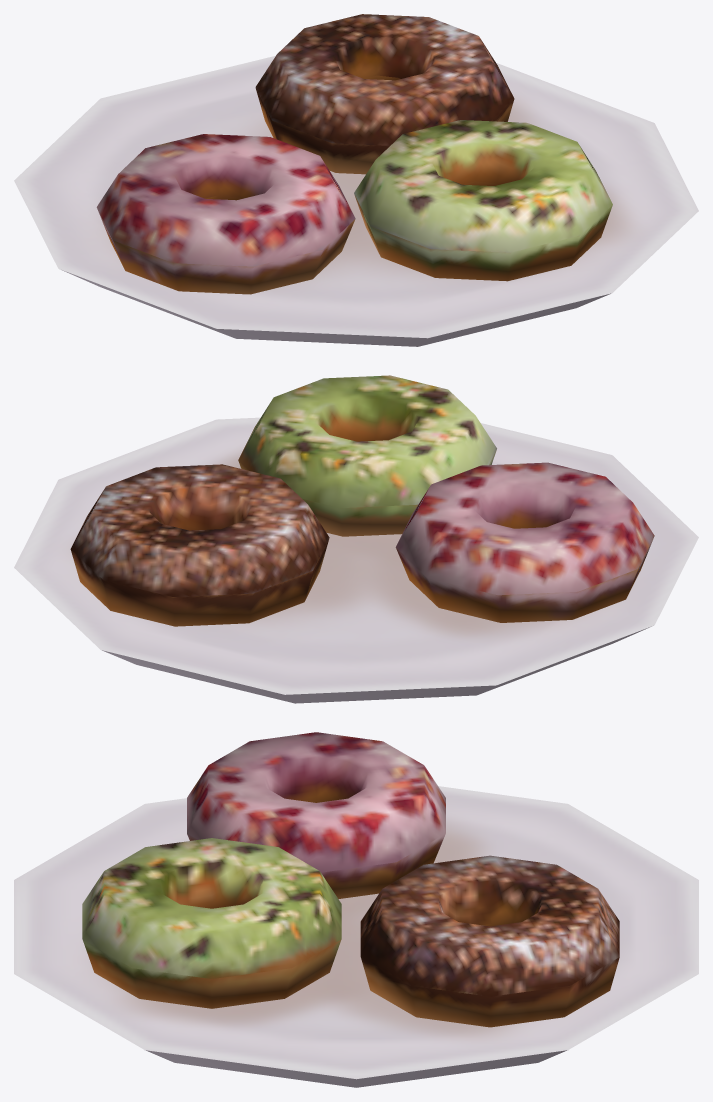
File: KaFeiTing_01_tiantianquan_01.FBX
The picture shows the model from 3 angles, top to bottom: view 1: azimuth 30°, elevation 25°; view 2: azimuth 150°, elevation 25°; view 3: azimuth 270°, elevation 25°; orthographic projection. The views are drawn at different scales.
Parts seen in each view (by area): view 1: KaFeiTing_01_tiantianquan_01; view 2: KaFeiTing_01_tiantianquan_01; view 3: KaFeiTing_01_tiantianquan_01.
Boxes of the visible parts, x1,y1,x2,y2 form: KaFeiTing_01_tiantianquan_01: (14, 14, 698, 346); KaFeiTing_01_tiantianquan_01: (14, 375, 698, 703); KaFeiTing_01_tiantianquan_01: (14, 732, 698, 1087).
Size of the model in its own units: 128 by 19.78 by 122.
